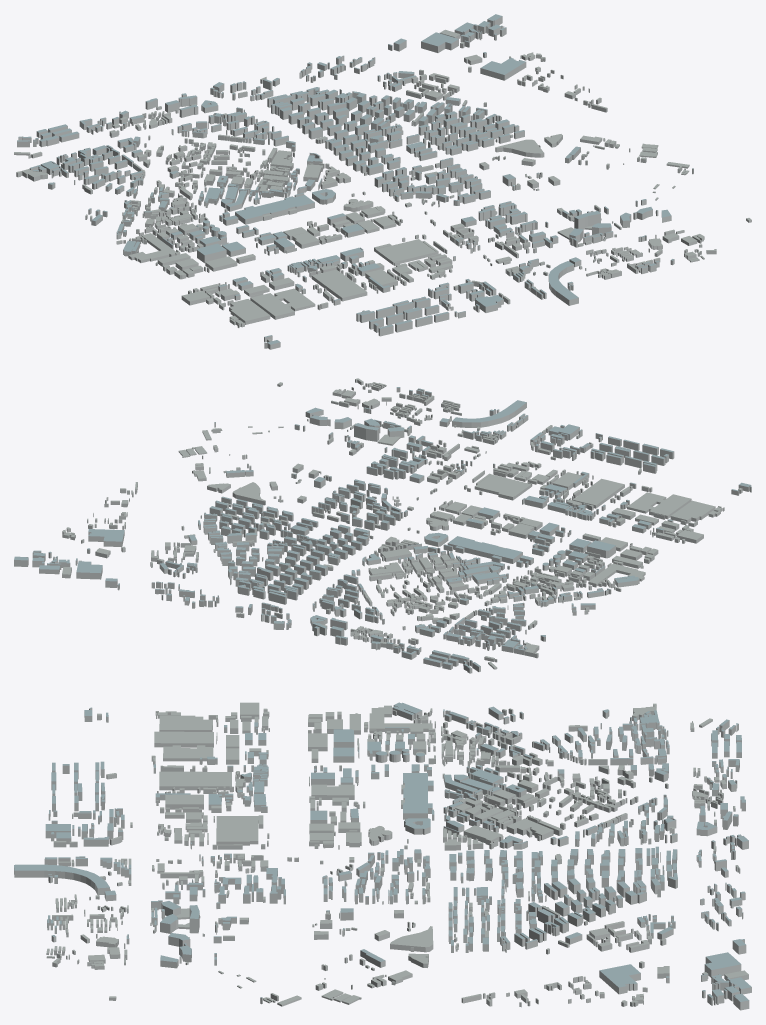
Rendered from far.glb.
The picture shows the model from 3 angles, top to bottom: view 1: azimuth 30°, elevation 25°; view 2: azimuth 150°, elevation 25°; view 3: azimuth 270°, elevation 25°; orthographic projection. The views are drawn at different scales.
Bounding box in the file's own units: 2154 × 48 × 2217.
